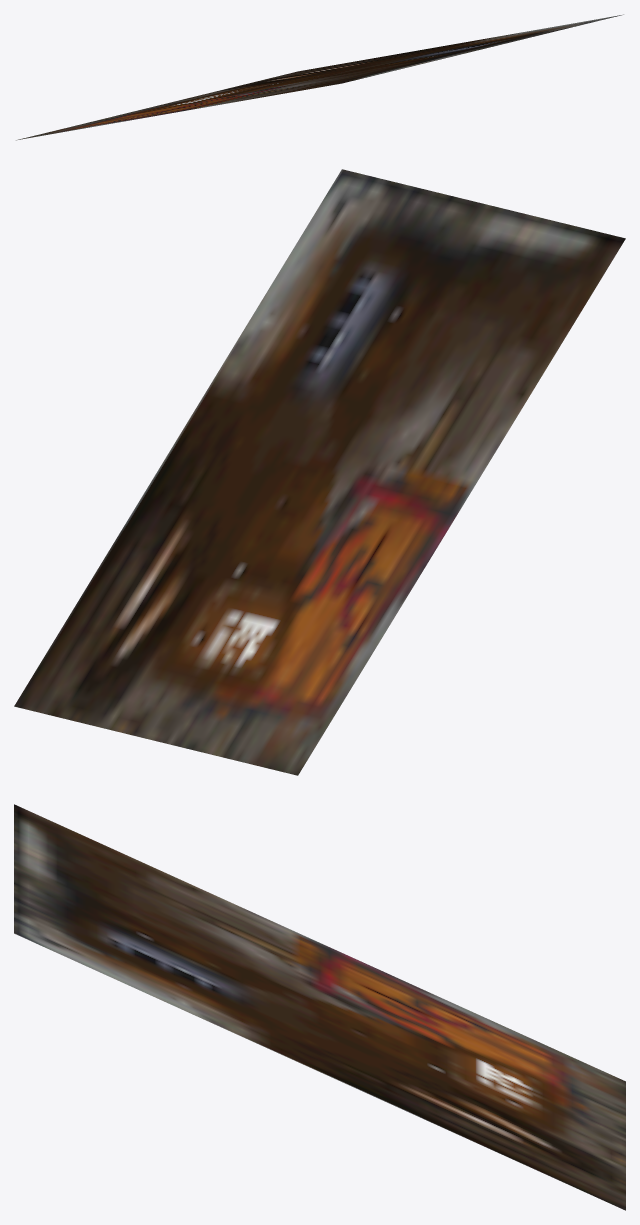
File: Schlucht4x8_Schräg [Favellas]_1464.glb
3 views of the same model, one above another, from view 1: azimuth 30°, elevation 25°; view 2: azimuth 150°, elevation 25°; view 3: azimuth 270°, elevation 25° (orthographic). The views are drawn at different scales.
Visible parts, largest first — view 1: pPlaneShape180; view 2: pPlaneShape180; view 3: pPlaneShape180.
Boxes of the visible parts, bbox=[...] form: pPlaneShape180: bbox=[16, 14, 623, 140]; pPlaneShape180: bbox=[14, 169, 625, 775]; pPlaneShape180: bbox=[14, 804, 625, 1210].
Size of the model in its own units: 1 by 1 by 2.
Materials: 1 (1 with a texture image).
